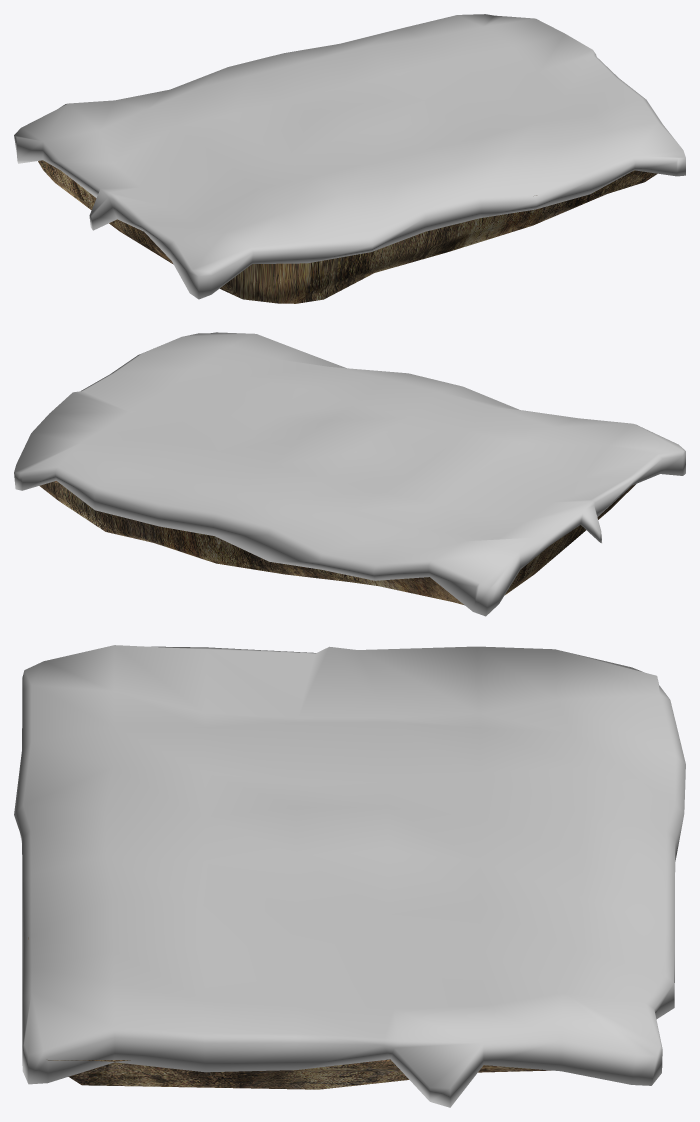
The model's file is MovingPlatform001.FBX.
The picture shows the model from 3 angles, top to bottom: view 1: azimuth 30°, elevation 25°; view 2: azimuth 150°, elevation 25°; view 3: azimuth 270°, elevation 25°; orthographic projection. The views are drawn at different scales.
Parts seen in each view (by area): view 1: MovingPlatform001; view 2: MovingPlatform001; view 3: MovingPlatform001.
Boxes of the visible parts, x1,y1,x2,y2 form: MovingPlatform001: (14,14,685,303); MovingPlatform001: (14,332,685,616); MovingPlatform001: (14,645,685,1107).
Bounding box in the file's own units: 13.87 × 9.42 × 2.35.
